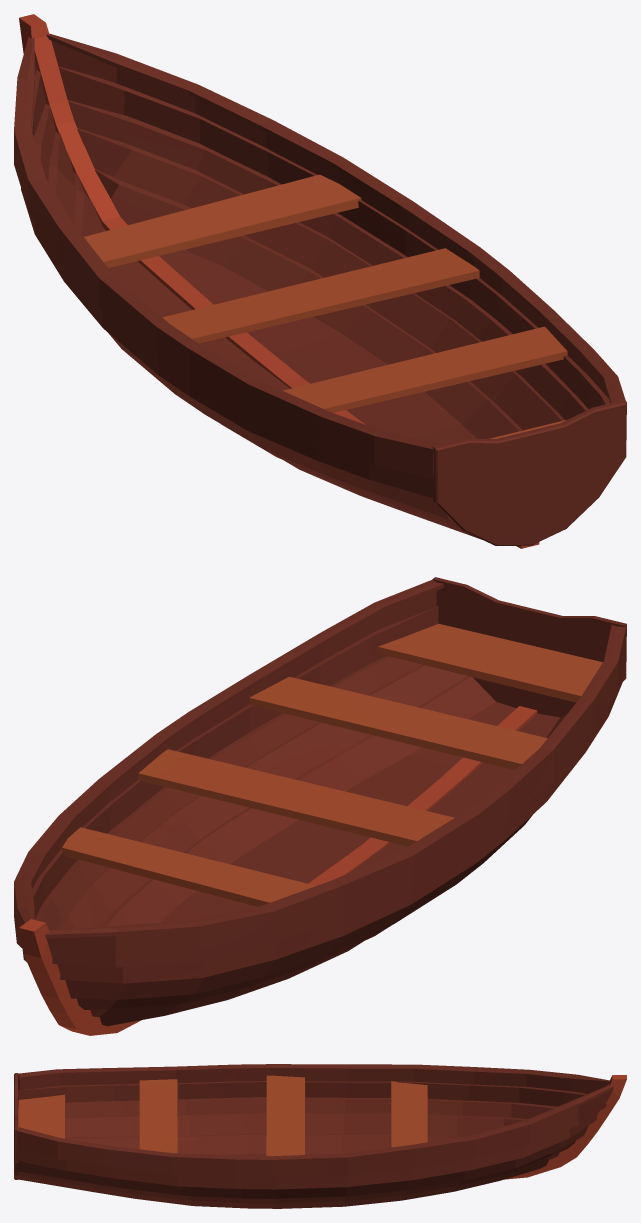
File: boat_collider.fbx
The picture shows the model from 3 angles, top to bottom: view 1: azimuth 30°, elevation 25°; view 2: azimuth 150°, elevation 25°; view 3: azimuth 270°, elevation 25°; orthographic projection. The views are drawn at different scales.
Visible parts, largest first — view 1: Boat; view 2: Boat; view 3: Boat.
Part boxes in pixels (x1,y1,x2,y2): Boat: (14, 14, 626, 548); Boat: (14, 577, 626, 1035); Boat: (14, 1064, 626, 1208).
Size of what is drawn, in the model's own units: 143 by 78.09 by 387.
